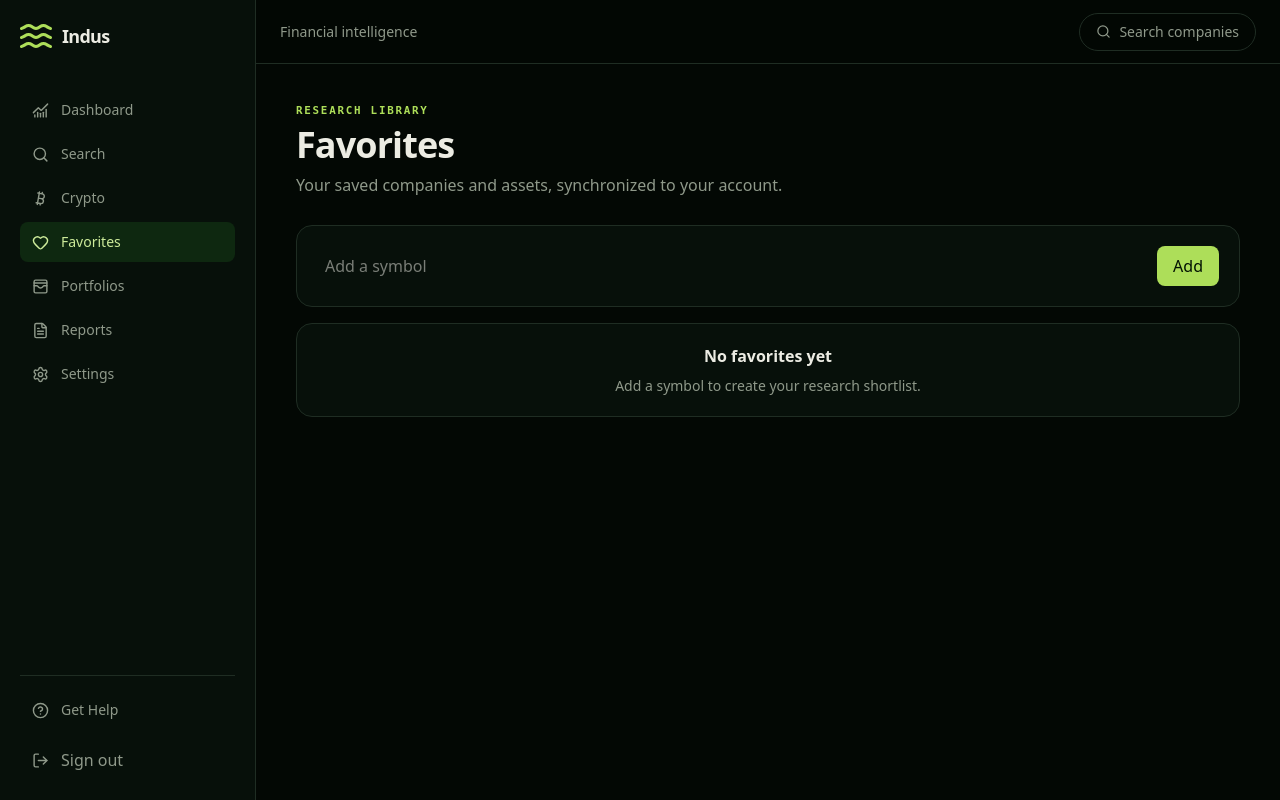
application routing › renders a bounded mutation error without provider detail
The width and height of the screenshot is (1280, 800).
Expected: the heading "No favorites yet" is shown, x1=704 y1=345 x2=832 y2=367
Type "AAPL" into the field labelled "symbol".
click(731, 266); type("AAPL")  # box x1=317 y1=246 x2=1145 y2=286
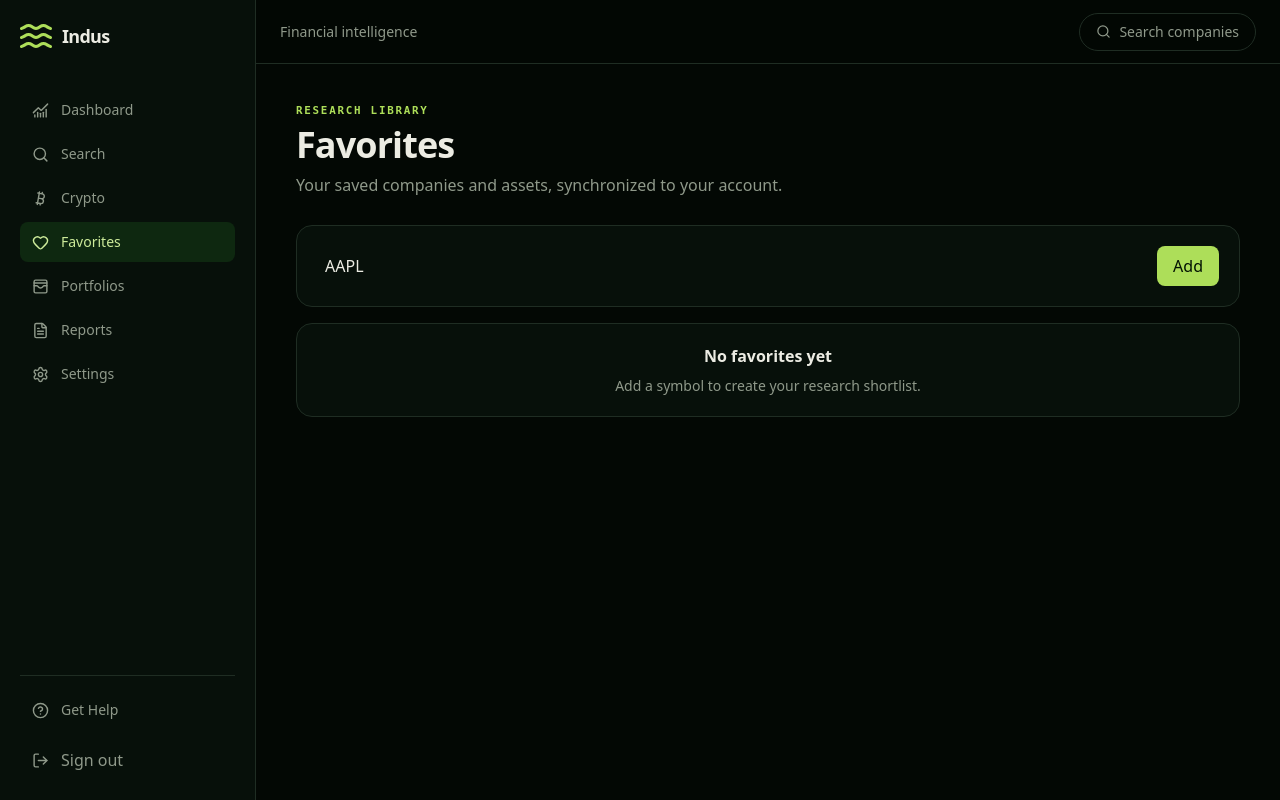
Click the button "Add".
click(1188, 266)  # box x1=1157 y1=246 x2=1219 y2=286
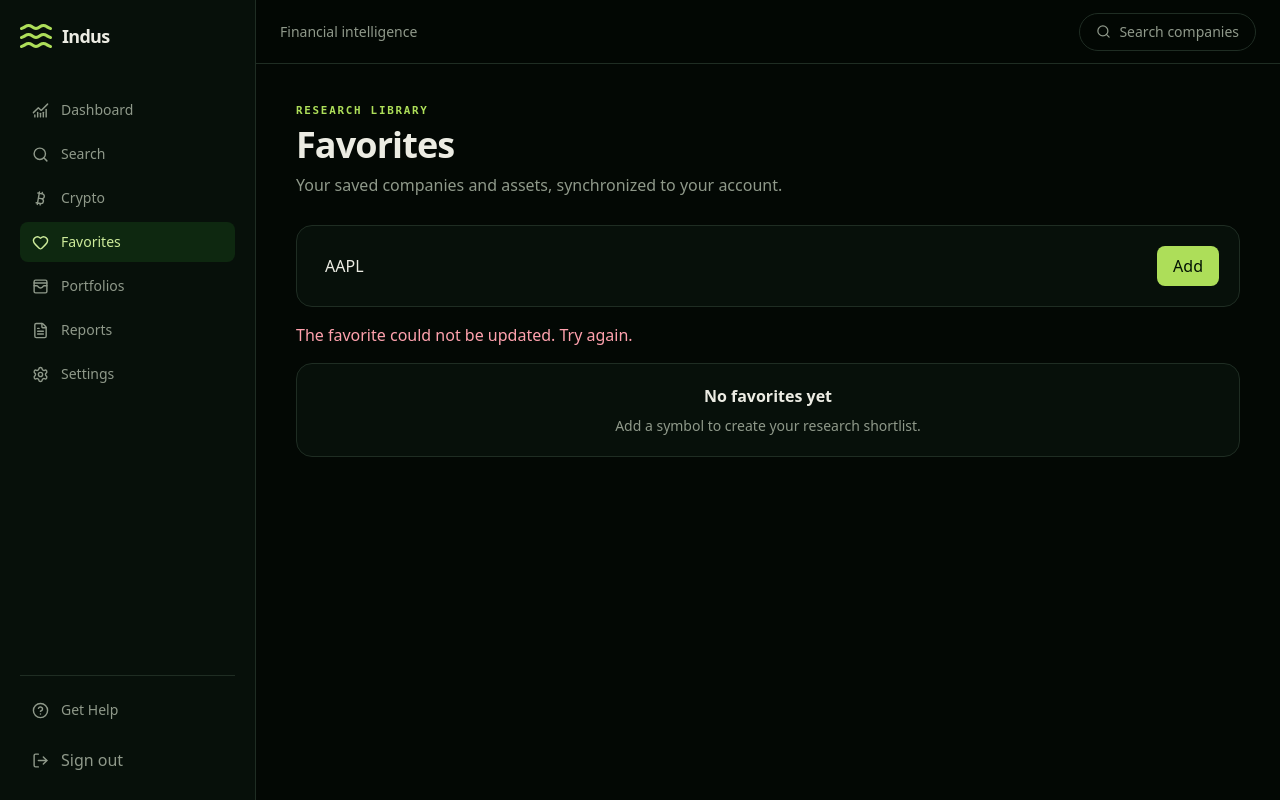
Expected: the message shows "The favorite could not be updated", x1=296 y1=324 x2=633 y2=346
